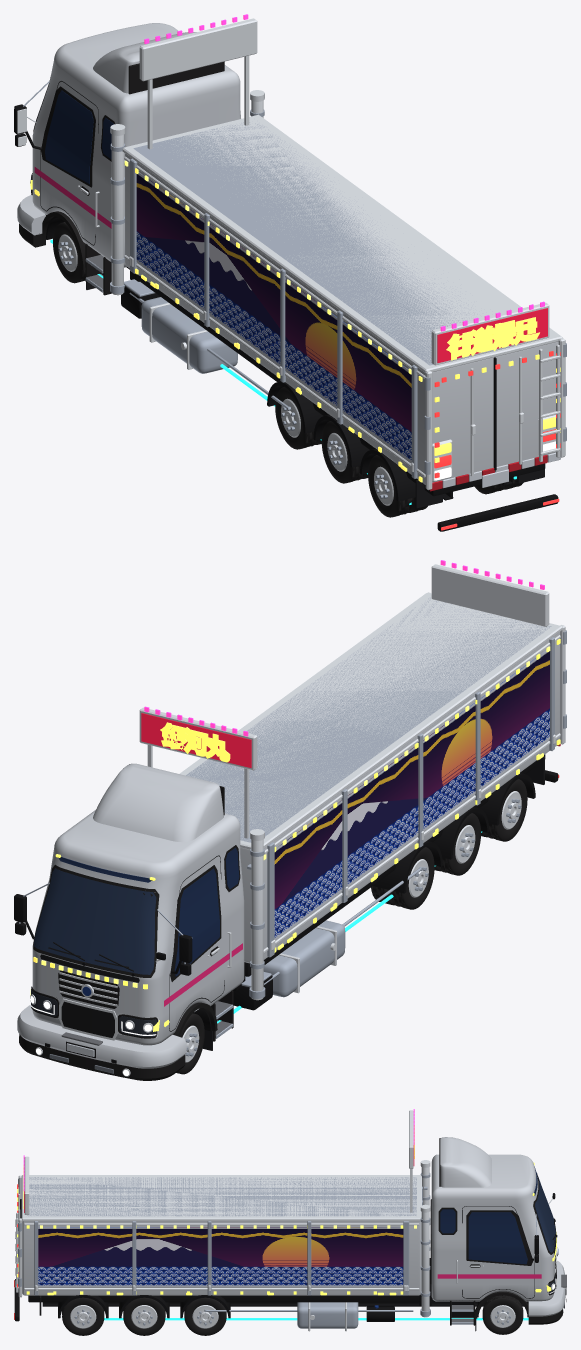
The model's file is dekotora_truck_longo_alta.glb.
3 renders of one model, top to bottom at view 1: azimuth 30°, elevation 25°; view 2: azimuth 150°, elevation 25°; view 3: azimuth 270°, elevation 25°, orthographic. The views are drawn at different scales.
Parts seen in each view (by area): view 1: truck_chrome, truck_paint_white_panel, truck_steel, truck_mural, truck_plastic_black, truck_plastic_trim, truck_lamp_amber, truck_glass, wheel_r_L_1.5_1.06, wheel_r_L_3.0_1.06, wheel_r_L_4.5_1.06, wheel_f_L (+4 smaller); view 2: truck_chrome, truck_paint_white_panel, truck_steel, truck_mural, truck_glass_wind, truck_plastic_black, truck_plastic_trim, truck_glass, truck_lamp_amber, truck_andon_panel, wheel_r_L_3.0_1.06, wheel_r_L_1.5_1.06 (+5 smaller); view 3: truck_chrome, truck_mural, truck_paint_white_panel, truck_steel, truck_plastic_black, truck_glass, truck_plastic_trim, wheel_f_R, wheel_r_R_3.0_1.06, wheel_r_R_1.5_1.06, wheel_r_R_4.5_1.06, truck_lamp_amber (+4 smaller).
Part boxes in pixels (left/top/right/bottom): truck_chrome: left=17, top=18, right=565, bottom=490; truck_paint_white_panel: left=17, top=23, right=558, bottom=484; truck_steel: left=19, top=81, right=566, bottom=478; truck_mural: left=136, top=172, right=411, bottom=462; truck_plastic_black: left=14, top=81, right=558, bottom=531; truck_plastic_trim: left=19, top=61, right=224, bottom=295; truck_lamp_amber: left=30, top=168, right=560, bottom=482; truck_glass: left=45, top=90, right=113, bottom=184; wheel_r_L_1.5_1.06: left=368, top=455, right=413, bottom=517; wheel_r_L_3.0_1.06: left=321, top=421, right=364, bottom=483; wheel_r_L_4.5_1.06: left=275, top=387, right=318, bottom=449; wheel_f_L: left=53, top=222, right=85, bottom=283; truck_chrome: left=30, top=564, right=565, bottom=1076; truck_paint_white_panel: left=17, top=632, right=559, bottom=1068; truck_steel: left=19, top=597, right=566, bottom=1038; truck_mural: left=274, top=650, right=549, bottom=939; truck_glass_wind: left=34, top=868, right=156, bottom=974; truck_plastic_black: left=14, top=754, right=558, bottom=1063; truck_plastic_trim: left=19, top=764, right=240, bottom=1080; truck_glass: left=59, top=847, right=239, bottom=976; truck_lamp_amber: left=30, top=639, right=560, bottom=1031; truck_andon_panel: left=141, top=713, right=251, bottom=767; wheel_r_L_3.0_1.06: left=438, top=813, right=480, bottom=875; wheel_r_L_1.5_1.06: left=484, top=779, right=527, bottom=841; truck_chrome: left=15, top=1110, right=563, bottom=1331; truck_mural: left=38, top=1227, right=403, bottom=1286; truck_paint_white_panel: left=22, top=1137, right=565, bottom=1316; truck_steel: left=18, top=1173, right=537, bottom=1328; truck_plastic_black: left=14, top=1193, right=566, bottom=1321; truck_glass: left=440, top=1166, right=537, bottom=1264; truck_plastic_trim: left=438, top=1138, right=564, bottom=1325; wheel_f_R: left=482, top=1295, right=523, bottom=1334; wheel_r_R_3.0_1.06: left=123, top=1297, right=165, bottom=1335; wheel_r_R_1.5_1.06: left=62, top=1297, right=104, bottom=1335; wheel_r_R_4.5_1.06: left=184, top=1297, right=226, bottom=1335; truck_lamp_amber: left=17, top=1125, right=556, bottom=1295.
Size of the model in its own units: 3.29 by 5.14 by 13.57.
Materials: 26 (9 with a texture image).
